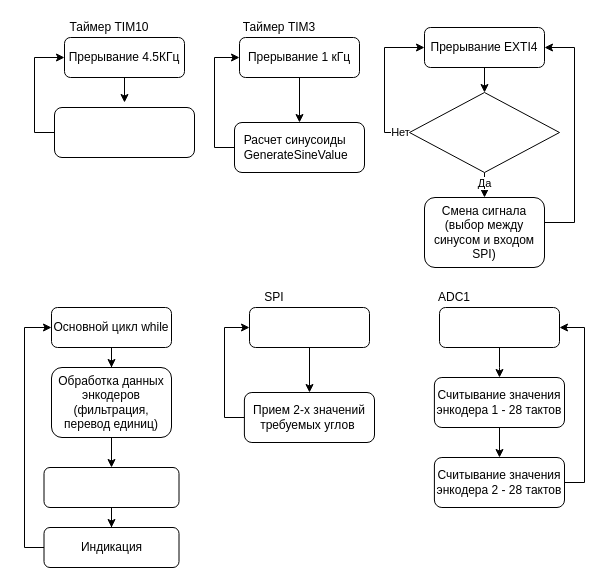
Image size: 610x585. Some labels were removed from this diagram. Here are the shapes that lost their labels. From the top down, the box of each, then its label:
(54, 106, 194, 158): Изменение регистров заполненности ШИМ TIM1 TIM4
(408, 92, 560, 172): Кнопка нажата?
(248, 306, 370, 348): SPI + DMA
(438, 306, 560, 348): АЦП + DMA
(43, 466, 179, 508): Расчет и обновление выхода КУ
